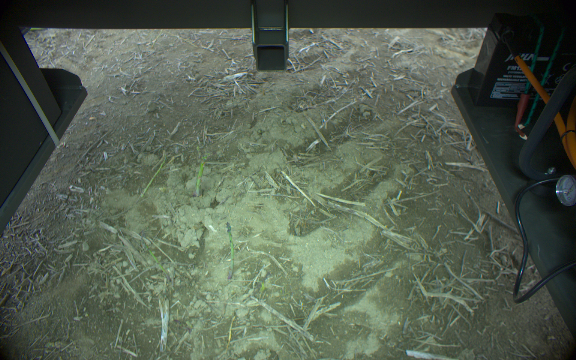aspa: (193, 140, 206, 200), (223, 221, 236, 278)
